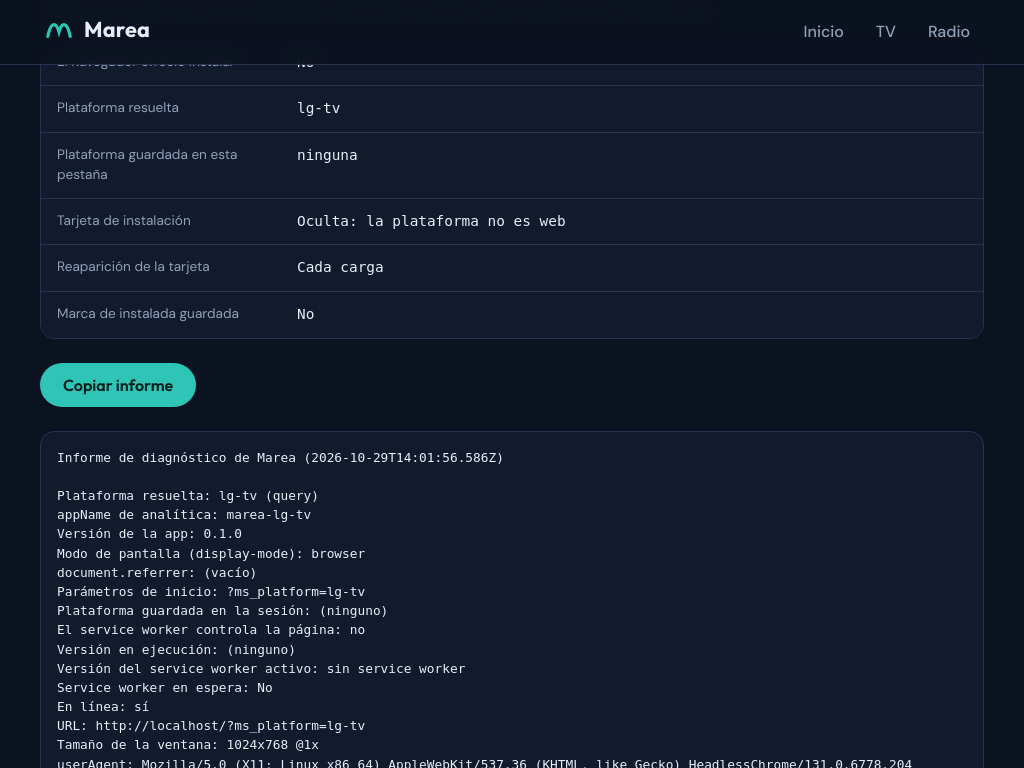
Test case: Debug copy report › selects the text when the clipboard is unavailable
(page scrolled)
Step 1. Click the button "Copiar informe" → (118, 385), box [40,363,196,407]
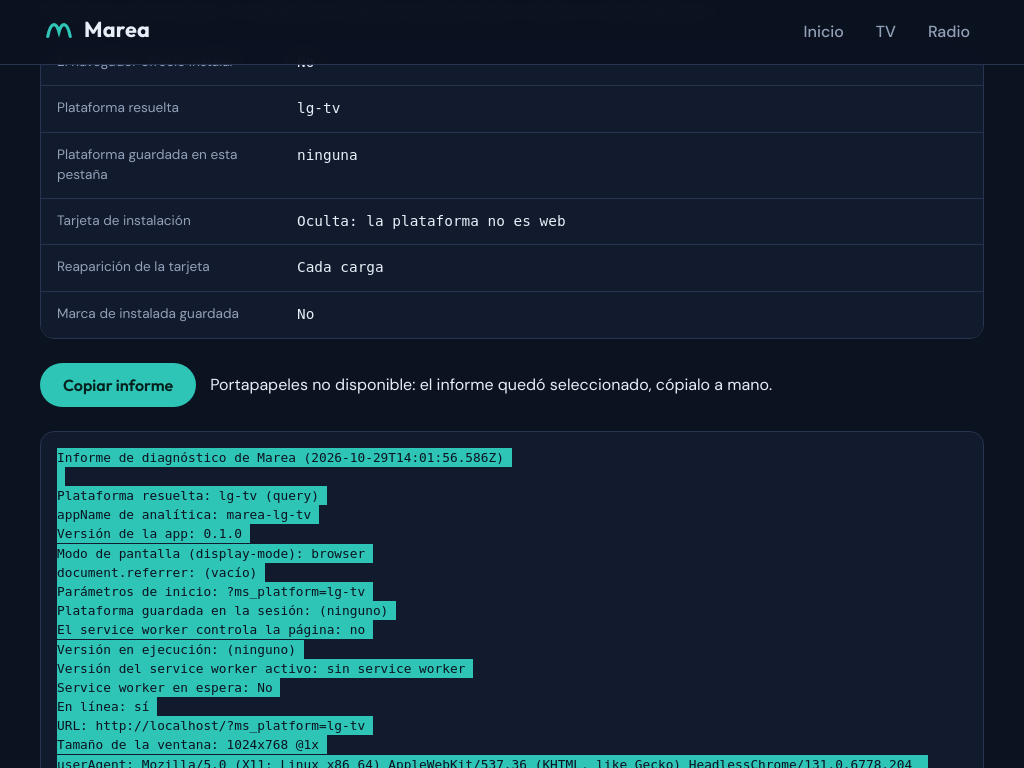
Check: the text "Portapapeles no disponible: el informe quedó seleccionado, cópialo a mano." is shown, box [210,373,772,397]
